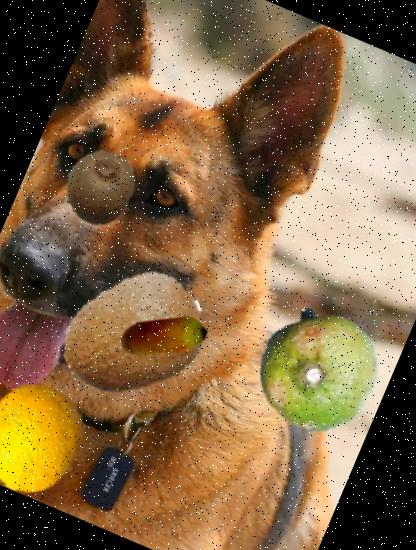Banana: (105, 278, 222, 395)
Cantaloupe: (0, 367, 103, 511)
Kiwi: (38, 240, 228, 430), (52, 139, 150, 238)
Limes: (238, 290, 398, 450)
